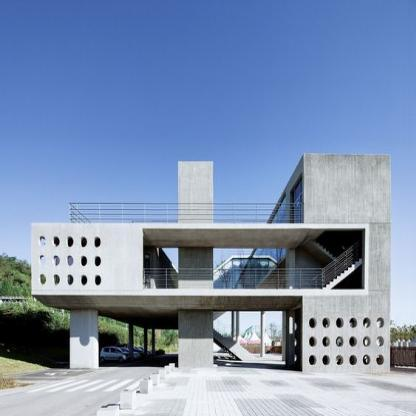Balcony: (69, 203, 303, 223), (143, 268, 323, 288)
Building Outline: (31, 153, 390, 373)
Door: (292, 176, 303, 236)
Facade: (31, 153, 390, 373)
Floor Slab: (68, 224, 303, 229), (31, 291, 389, 294)
Glass Wall: (236, 195, 287, 309)
Pillar: (178, 161, 213, 369), (70, 310, 98, 369)
Window: (143, 229, 366, 289)
